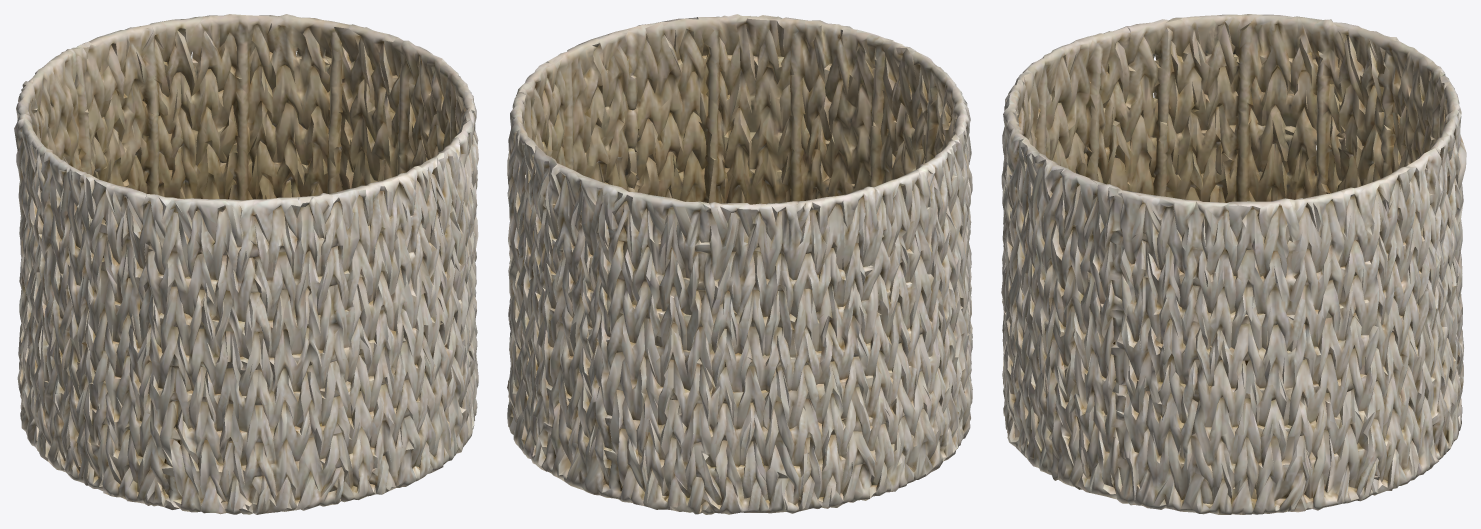
The model's file is basket.fbx.
The picture shows the model from 3 angles, left to right: view 1: azimuth 30°, elevation 25°; view 2: azimuth 150°, elevation 25°; view 3: azimuth 270°, elevation 25°; orthographic projection.
Parts seen in each view (by area): view 1: node_id166; view 2: node_id166; view 3: node_id166.
Boxes of the visible parts, bbox=[...] form: node_id166: bbox=[14, 14, 478, 514]; node_id166: bbox=[507, 14, 972, 514]; node_id166: bbox=[1001, 14, 1466, 514].
Bounding box in the file's own units: 0.512 × 0.3847 × 0.5117.
2 materials, 2 textured.
